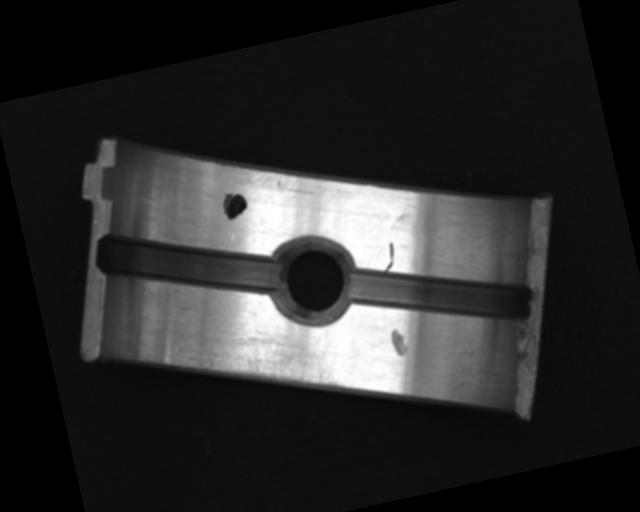blot: (218, 187, 250, 223)
bruise: (387, 325, 410, 360)
gap: (91, 201, 287, 324), (345, 235, 537, 355)
hole: (262, 230, 367, 334)
nick: (378, 241, 399, 273)
scratch: (184, 319, 348, 421)
